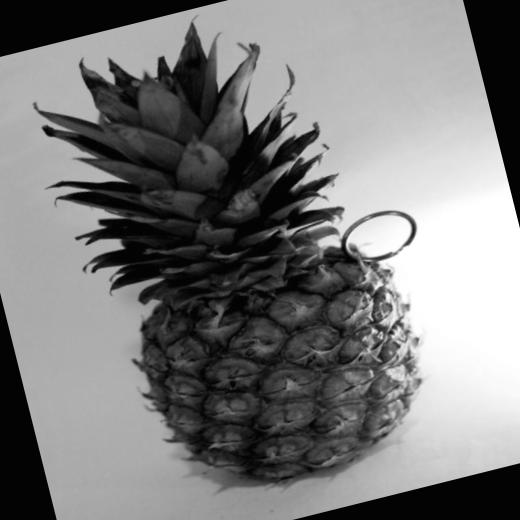Mango: (11, 0, 468, 518)
